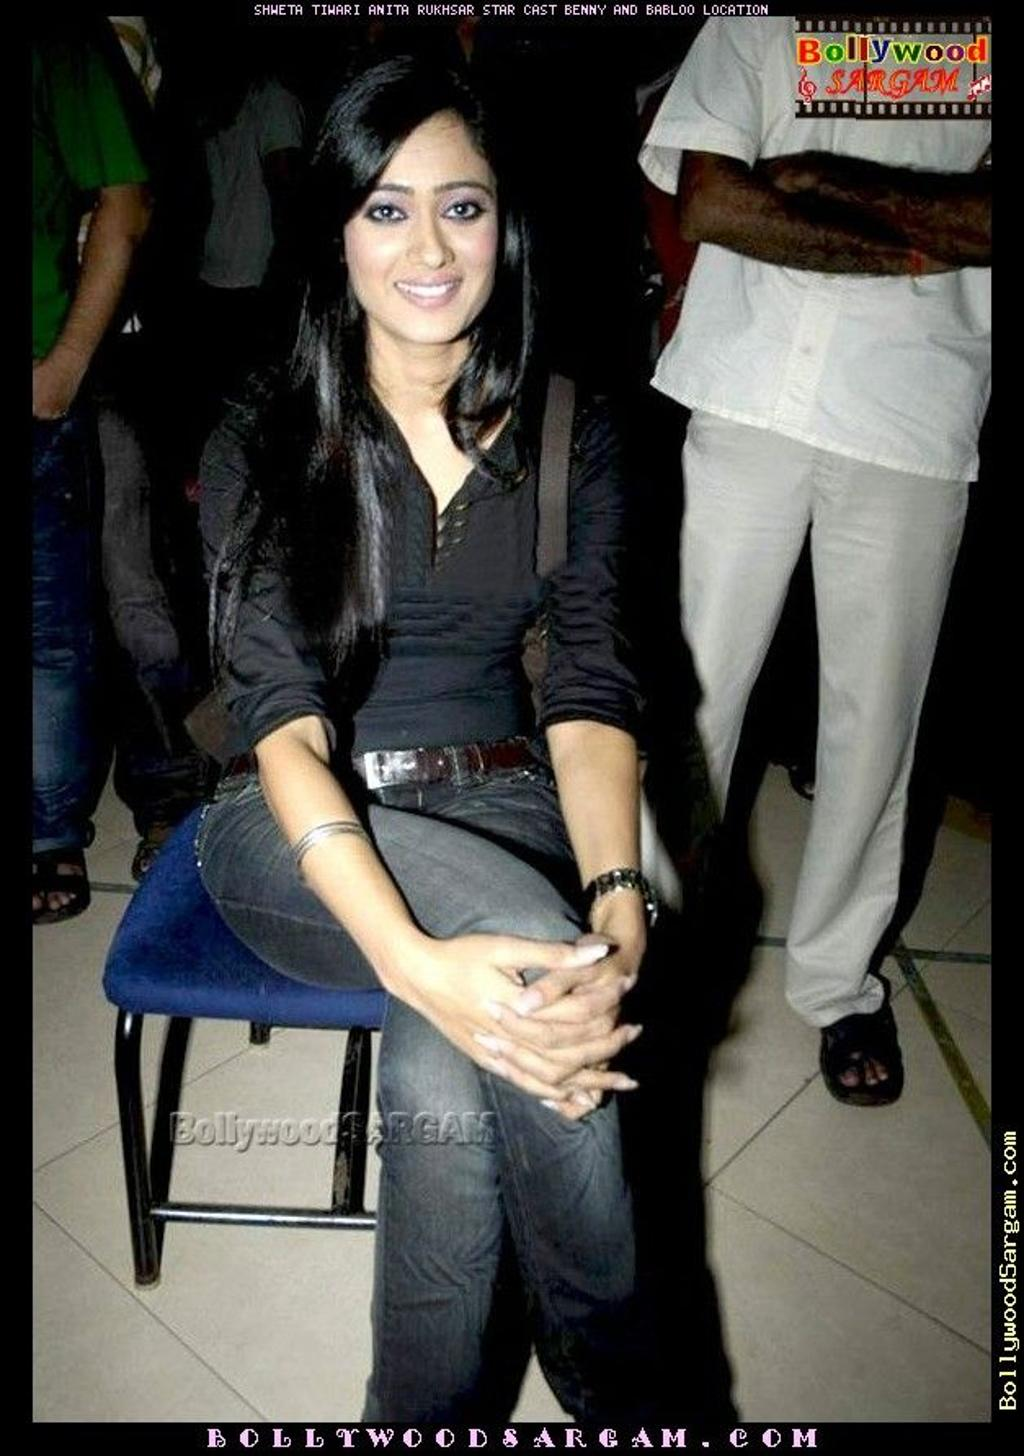face: (353, 122, 495, 330)
